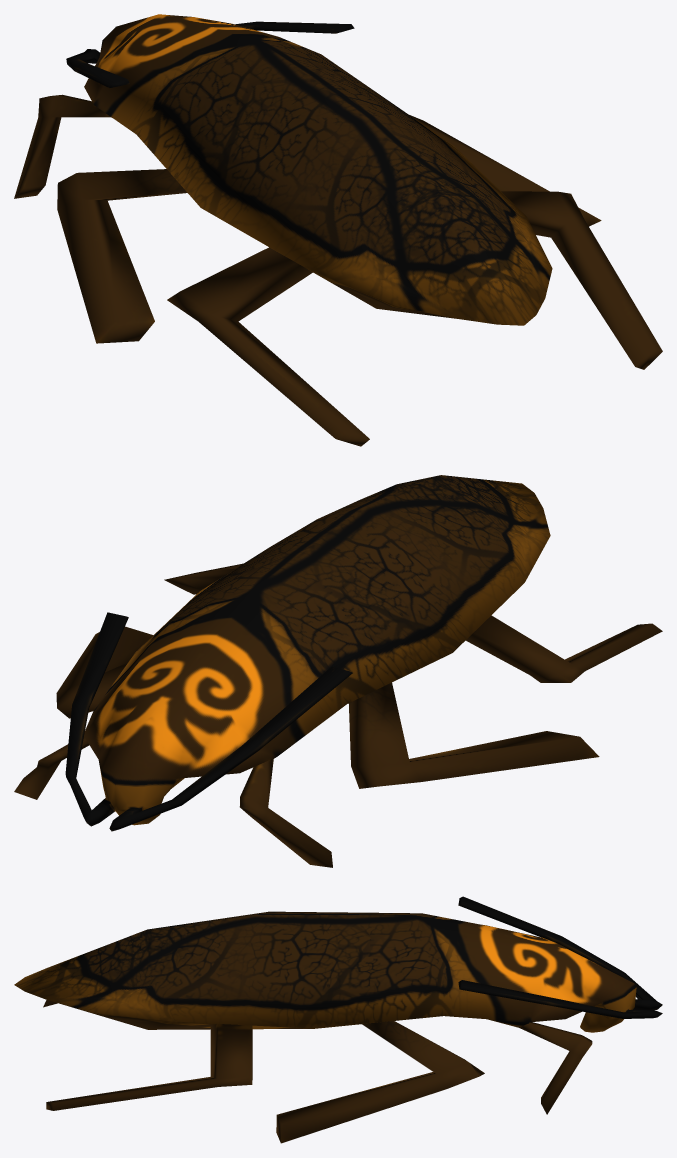
File: Roach_1.fbx
The picture shows the model from 3 angles, top to bottom: view 1: azimuth 30°, elevation 25°; view 2: azimuth 150°, elevation 25°; view 3: azimuth 270°, elevation 25°; orthographic projection. The views are drawn at different scales.
Visible parts, largest first — view 1: polySurface1; view 2: polySurface1; view 3: polySurface1.
Part boxes in pixels (x1,y1,x2,y2): polySurface1: [14, 14, 662, 446]; polySurface1: [14, 475, 662, 867]; polySurface1: [14, 896, 662, 1143].
Bounding box in the file's own units: 4.54 × 1.64 × 6.61.
Materials: 1 (1 with a texture image).
